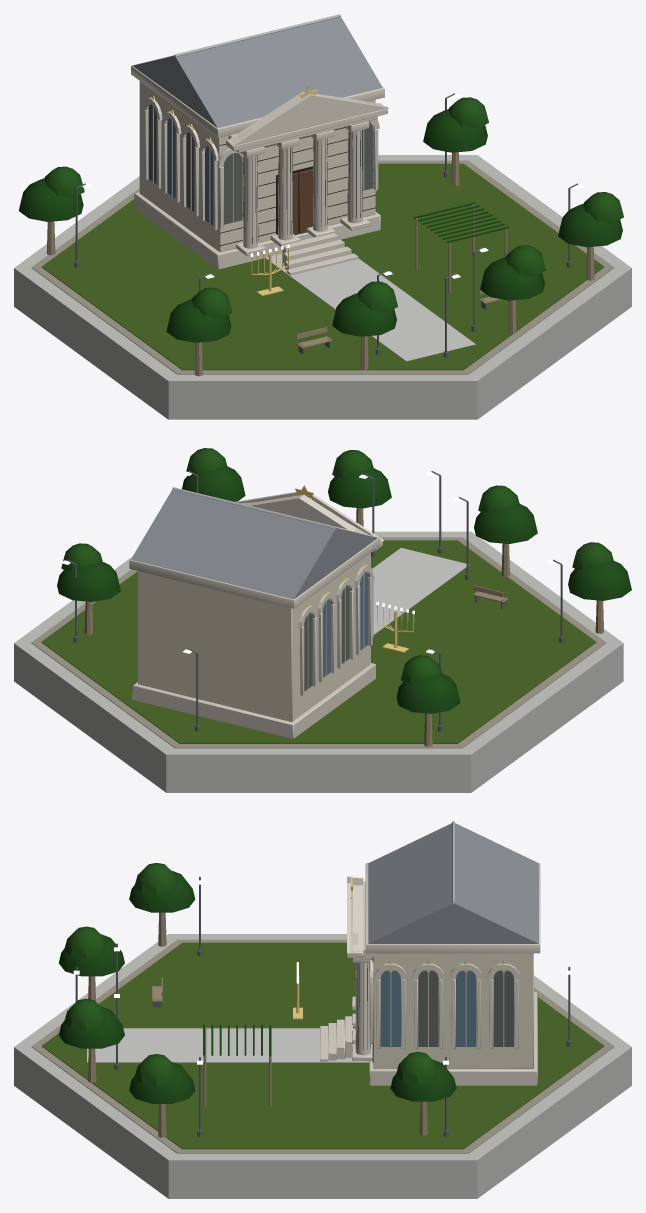
The model's file is worship_synagogue.glb.
3 views of the same model, one above another, from view 1: azimuth 30°, elevation 25°; view 2: azimuth 150°, elevation 25°; view 3: azimuth 270°, elevation 25° (orthographic).
Parts seen in each view (by area): view 1: turf, wall_concrete, stone, leaf, roof_slate, pavers, glass, wood, dark, steel_dark, gold; view 2: turf, stone, wall_concrete, leaf, roof_slate, pavers, glass, steel_dark, wood, gold, metal; view 3: turf, wall_concrete, stone, roof_slate, leaf, pavers, glass, wood, steel_dark.
Boxes of the visible parts, left/top/right/bottom form: turf: left=42, top=163, right=603, bottom=370; wall_concrete: left=14, top=106, right=631, bottom=419; stone: left=131, top=55, right=388, bottom=275; leaf: left=19, top=97, right=623, bottom=342; roof_slate: left=132, top=16, right=382, bottom=127; pavers: left=31, top=160, right=614, bottom=374; glass: left=148, top=104, right=373, bottom=225; wood: left=46, top=152, right=594, bottom=376; dark: left=219, top=121, right=376, bottom=245; steel_dark: left=74, top=93, right=578, bottom=357; gold: left=150, top=86, right=317, bottom=295; turf: left=41, top=540, right=596, bottom=743; stone: left=129, top=491, right=383, bottom=738; wall_concrete: left=14, top=531, right=623, bottom=792; leaf: left=57, top=448, right=631, bottom=713; roof_slate: left=131, top=489, right=377, bottom=599; pavers: left=31, top=537, right=606, bottom=748; glass: left=304, top=572, right=368, bottom=691; steel_dark: left=67, top=471, right=564, bottom=731; wood: left=84, top=508, right=603, bottom=746; gold: left=295, top=485, right=414, bottom=652; metal: left=172, top=487, right=336, bottom=529; turf: left=41, top=942, right=604, bottom=1149; wall_concrete: left=14, top=934, right=631, bottom=1198; stone: left=320, top=863, right=540, bottom=1085; roof_slate: left=368, top=823, right=538, bottom=943; leaf: left=58, top=863, right=456, bottom=1103; pavers: left=31, top=939, right=614, bottom=1153; glass: left=380, top=970, right=513, bottom=1046; wood: left=88, top=912, right=427, bottom=1137; steel_dark: left=75, top=876, right=571, bottom=1136.
Size of the model in its own units: 21.31 by 9.85 by 24.6.
